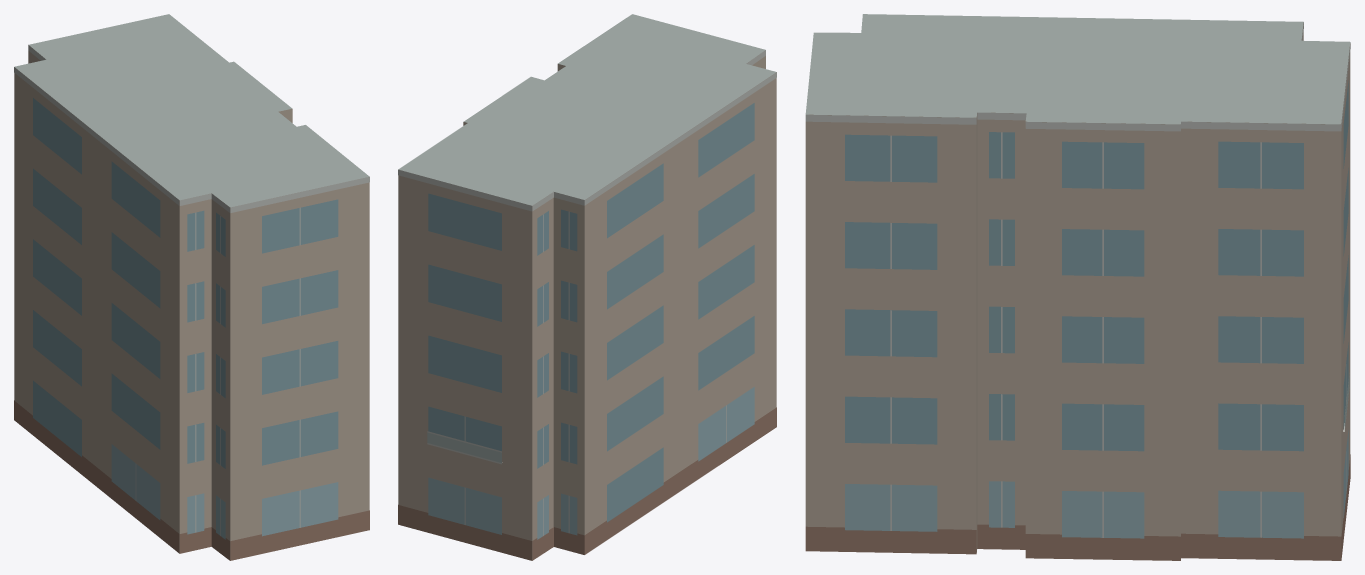
File: survey-upis-33023202.glb
3 views of the same model, side by side, from view 1: azimuth 30°, elevation 25°; view 2: azimuth 150°, elevation 25°; view 3: azimuth 270°, elevation 25° (orthographic). The views are drawn at different scales.
Parts seen in each view (by area): view 1: survey-upis-33023202.tmp; view 2: survey-upis-33023202.tmp; view 3: survey-upis-33023202.tmp.
Part boxes in pixels (x1,y1,x2,y2): survey-upis-33023202.tmp: (14, 14, 369, 560); survey-upis-33023202.tmp: (398, 14, 776, 560); survey-upis-33023202.tmp: (805, 14, 1350, 560).
Size of the model in its own units: 8.2 by 15.1 by 17.09.
